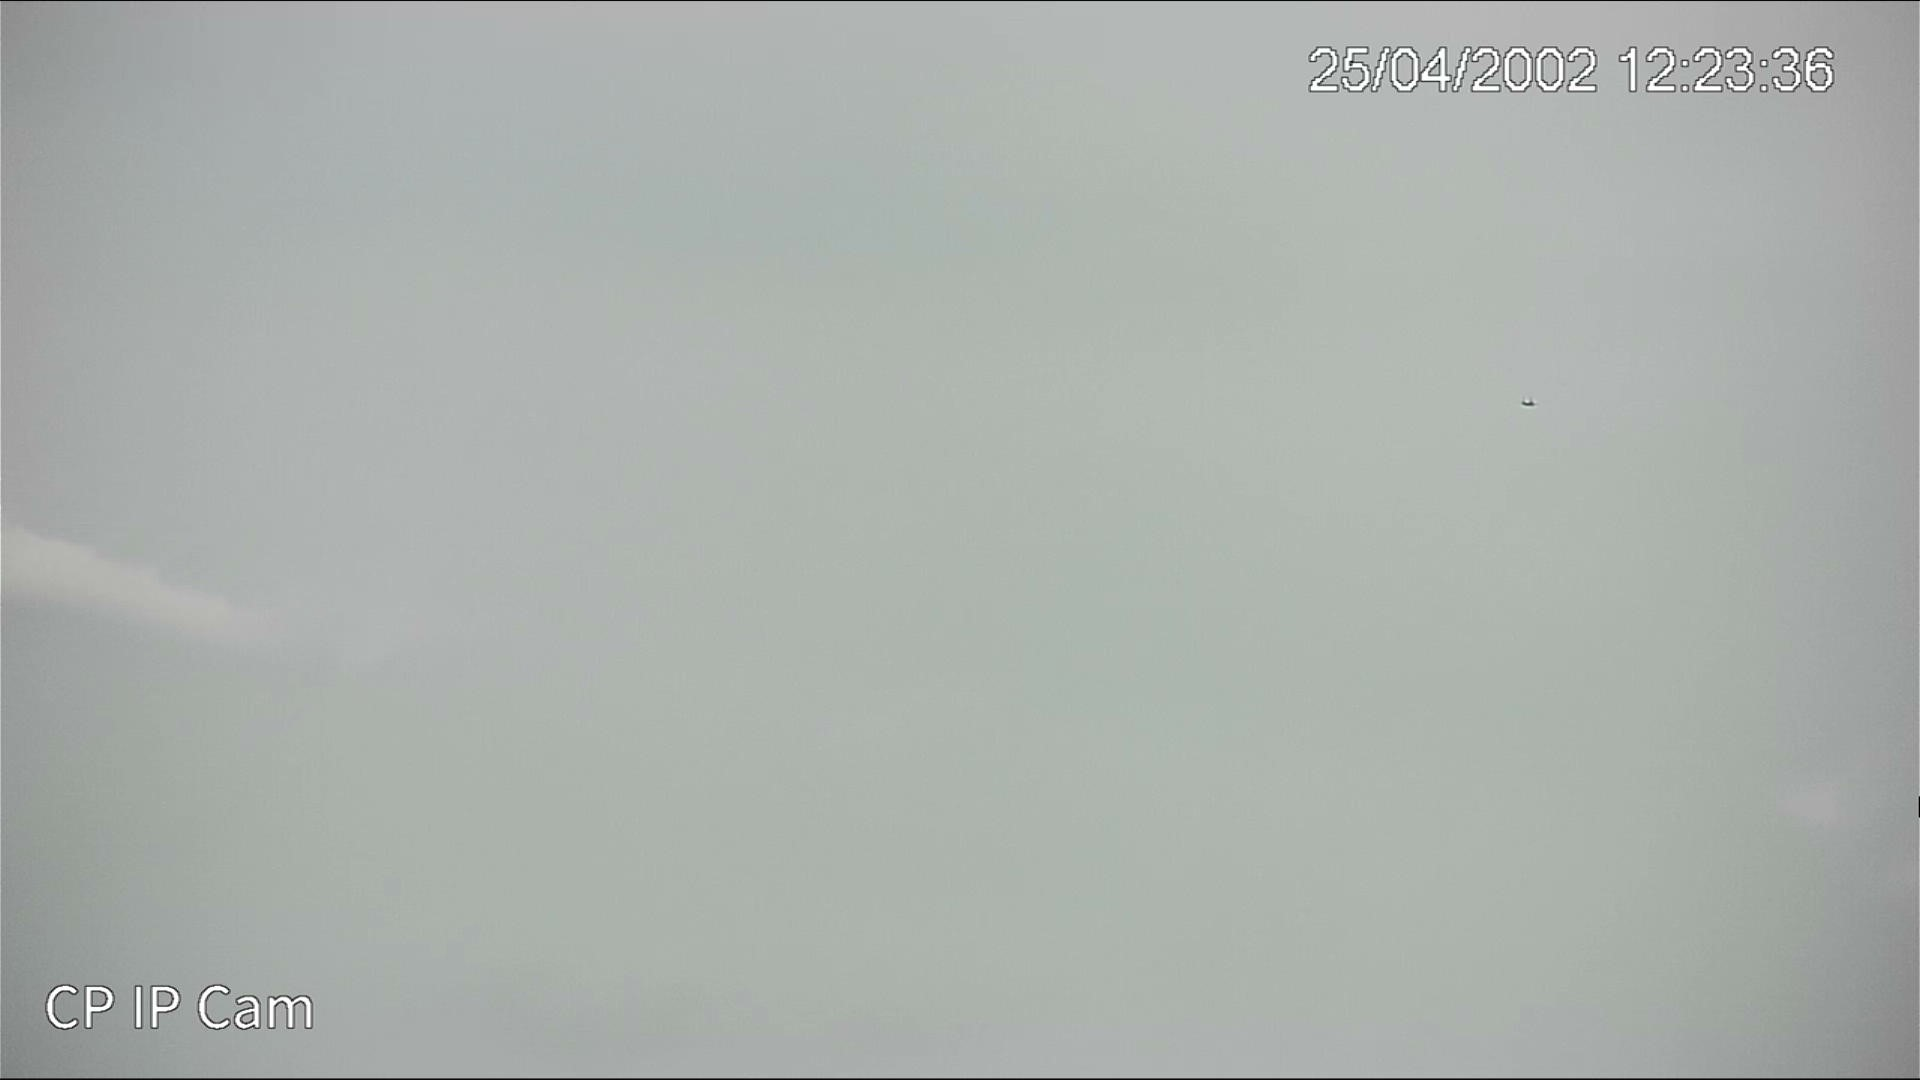SU_30: (1516, 396, 1539, 407)
